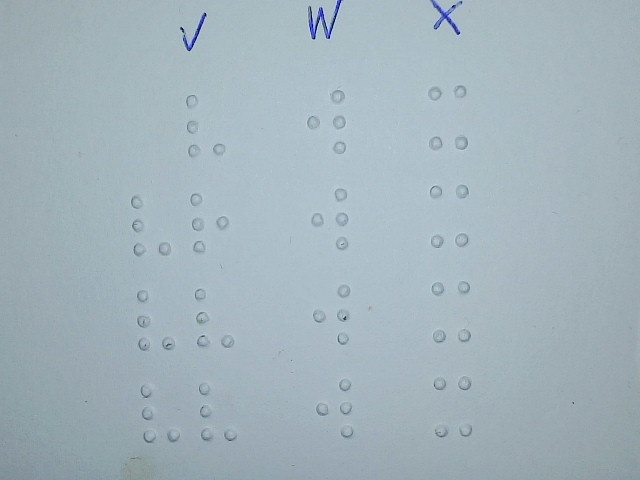V: (184, 93, 229, 158), (129, 192, 174, 257), (192, 285, 237, 350), (196, 378, 241, 443), (138, 381, 183, 446)
W: (305, 87, 349, 155), (309, 184, 353, 252), (310, 281, 354, 349), (314, 374, 358, 442)
X: (426, 83, 470, 151), (427, 181, 471, 249), (429, 277, 473, 345), (430, 371, 474, 439)
